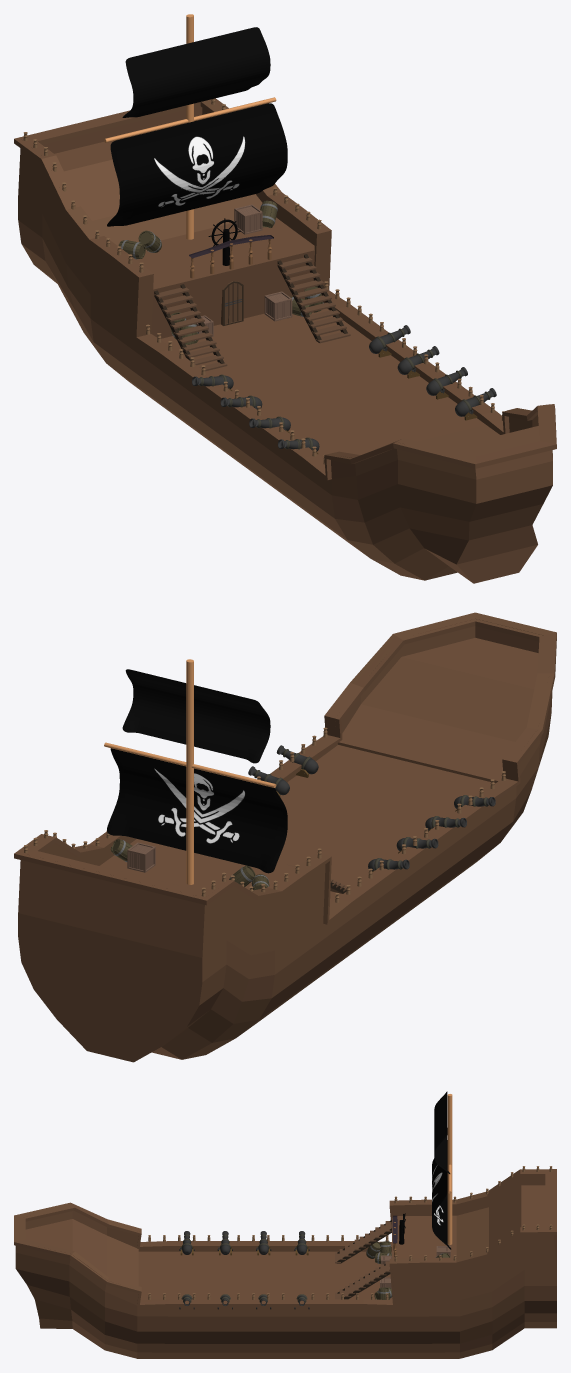
Rendered from PIRATES_SHIP-8-_bayrak.fbx.
3 views of the same model, one above another, from view 1: azimuth 30°, elevation 25°; view 2: azimuth 150°, elevation 25°; view 3: azimuth 270°, elevation 25° (orthographic). The views are drawn at different scales.
Visible parts, largest first — view 1: Korsan gemisi, Bayrak; view 2: Korsan gemisi, Bayrak; view 3: Korsan gemisi, Bayrak.
Boxes of the visible parts, <box> form: Korsan gemisi: <box>14,14,556,583</box>; Bayrak: <box>107,103,287,226</box>; Korsan gemisi: <box>14,612,556,1062</box>; Bayrak: <box>107,748,287,873</box>; Korsan gemisi: <box>14,1091,556,1358</box>; Bayrak: <box>432,1140,451,1249</box>.
Size of the model in its own units: 2063 by 3494 by 6707.
